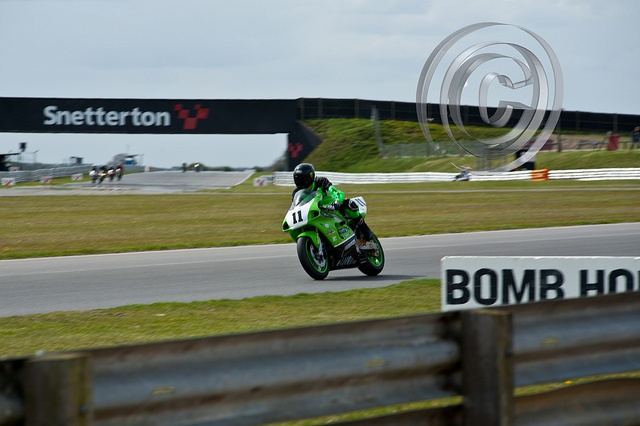non-vehicle: (281, 188, 384, 280), (89, 170, 97, 183), (98, 171, 106, 181), (107, 169, 114, 180), (115, 168, 121, 179)
